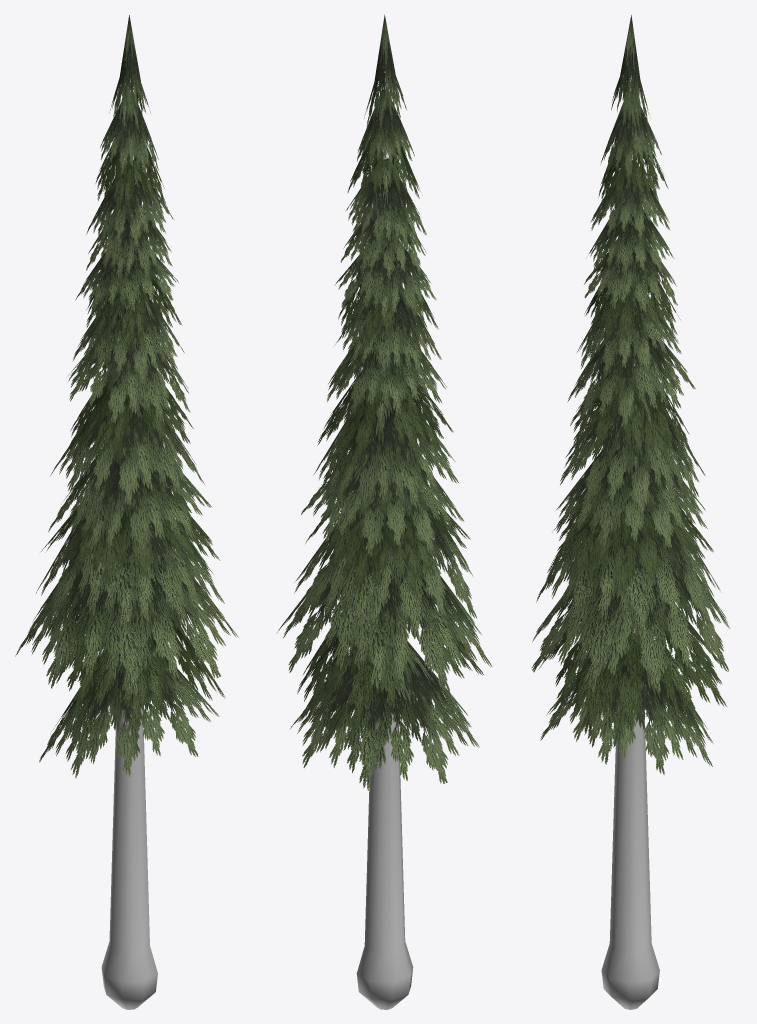
The model's file is Pine_05.fbx.
The picture shows the model from 3 angles, left to right: view 1: azimuth 30°, elevation 25°; view 2: azimuth 150°, elevation 25°; view 3: azimuth 270°, elevation 25°; orthographic projection.
Parts seen in each view (by area): view 1: polySurface1; view 2: polySurface1; view 3: polySurface1.
Part boxes in pixels (x1,y1,x2,y2): polySurface1: (15,15,238,1009); polySurface1: (276,14,492,1009); polySurface1: (532,15,730,1009).
Size of the model in its own units: 2.92 by 14.06 by 2.81.
